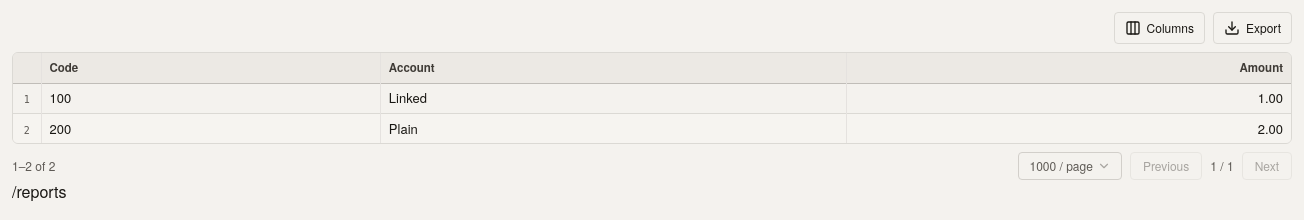
ReportGrid rowLink › navigates on click
Click the text "Linked": point(613, 98) [380, 83, 846, 113]
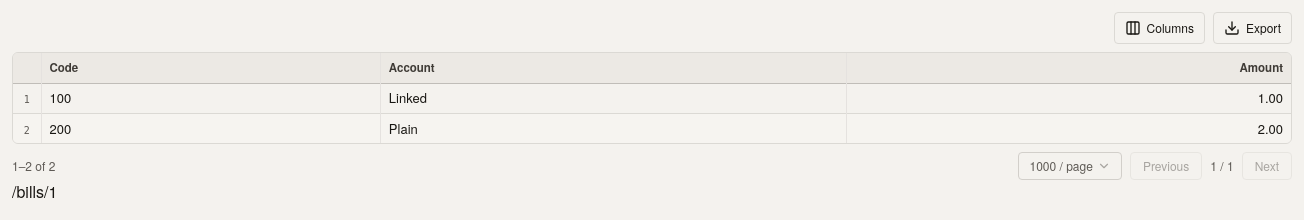
Now the text with test id "location" reads "/bills/1", box [12, 180, 57, 203]
